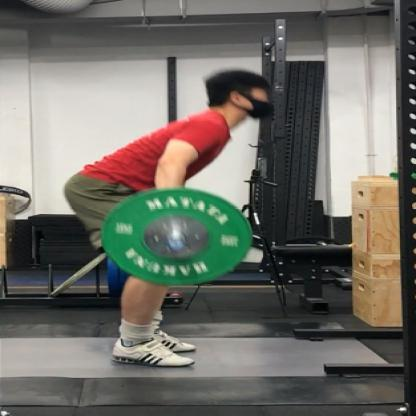barbell: (101, 188, 252, 287)
